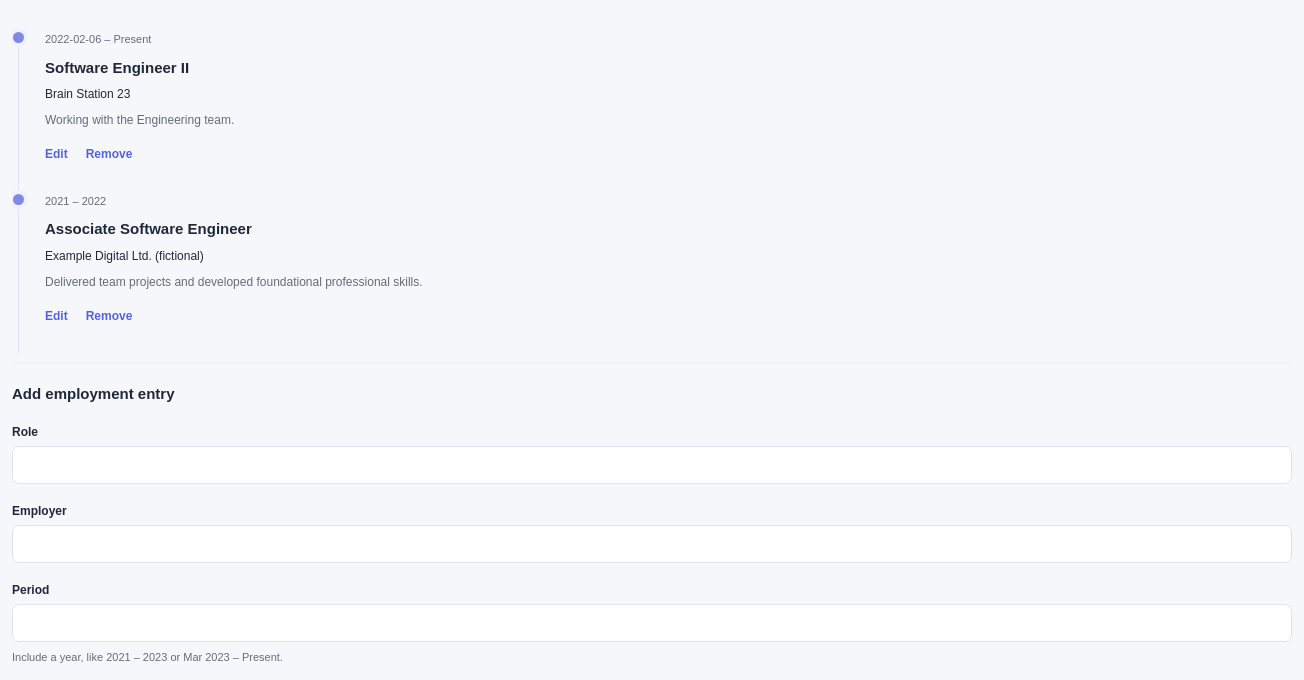
EmploymentHistoryPanel (Story 7.3) › asks for confirmation before removing, and cancelling removes nothing
What coordinates should you click on to do the following:
click the button "Remove" below "Example Digital Ltd. (fictional)"
I would click on:
 (109, 316)
Its box is 86,303 -> 132,329.
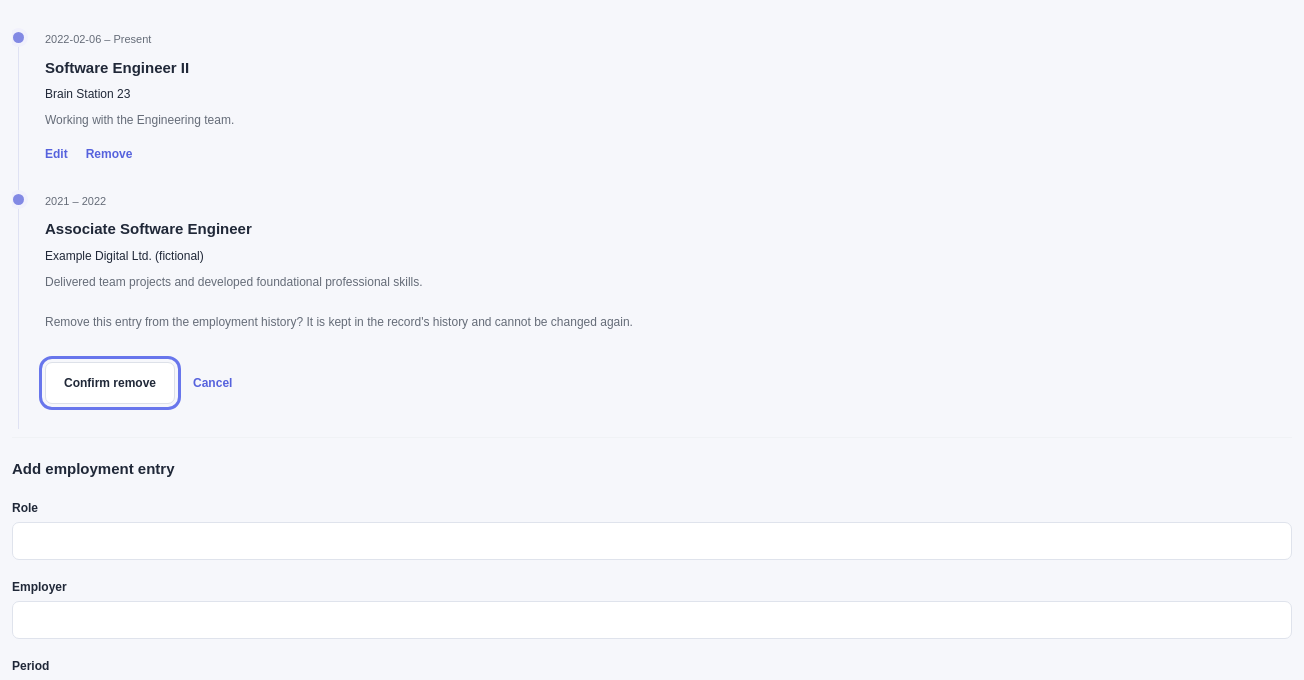
What coordinates should you click on to do the following:
click the button "Cancel"
I would click on:
 (213, 383)
Its box is 193,370 -> 232,396.
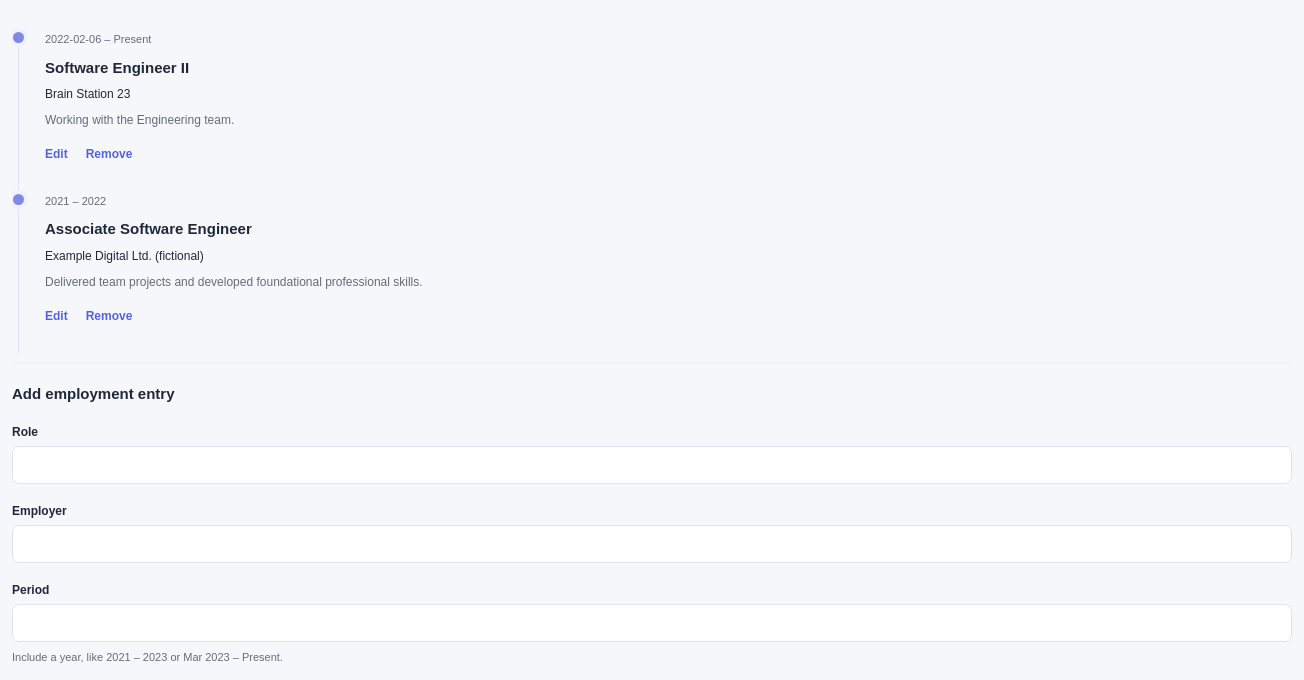
expect the button "Confirm remove" is gone: met
